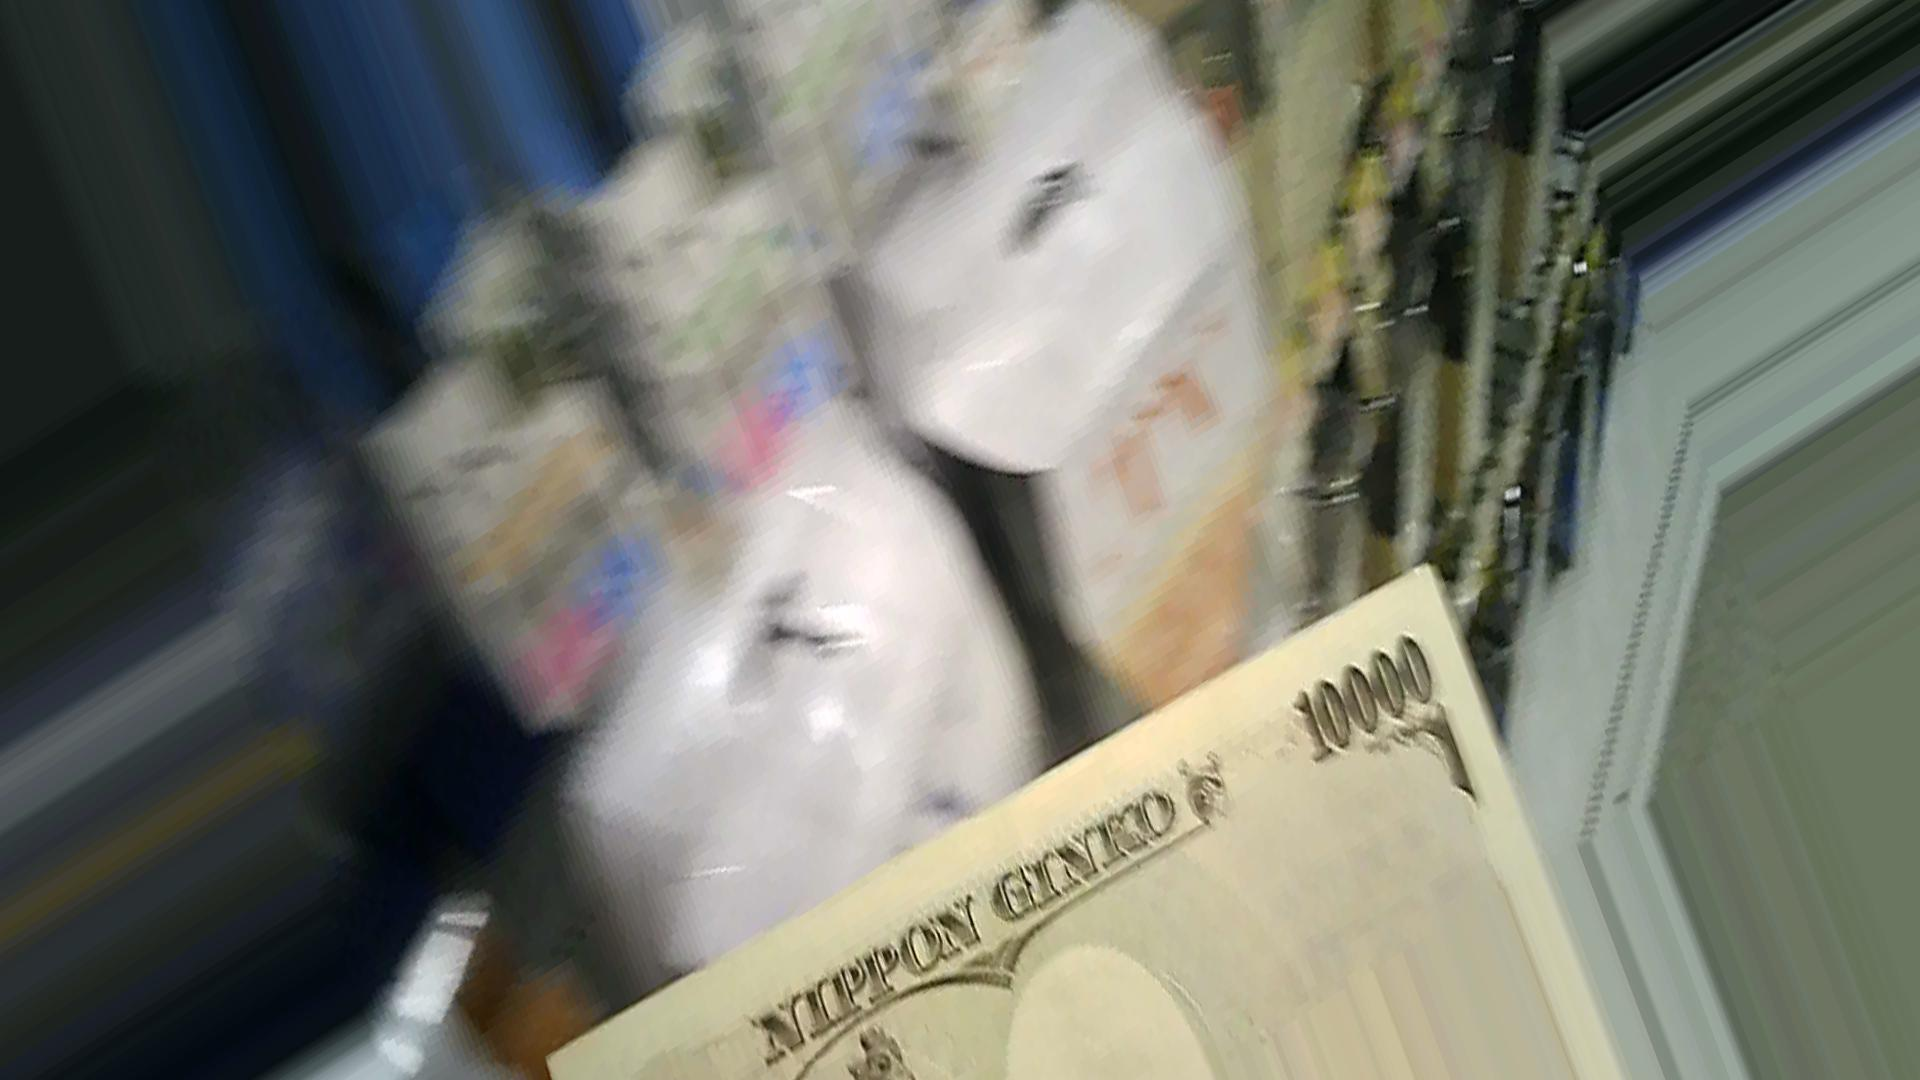10,000 Yen: (517, 556, 1542, 1079)
